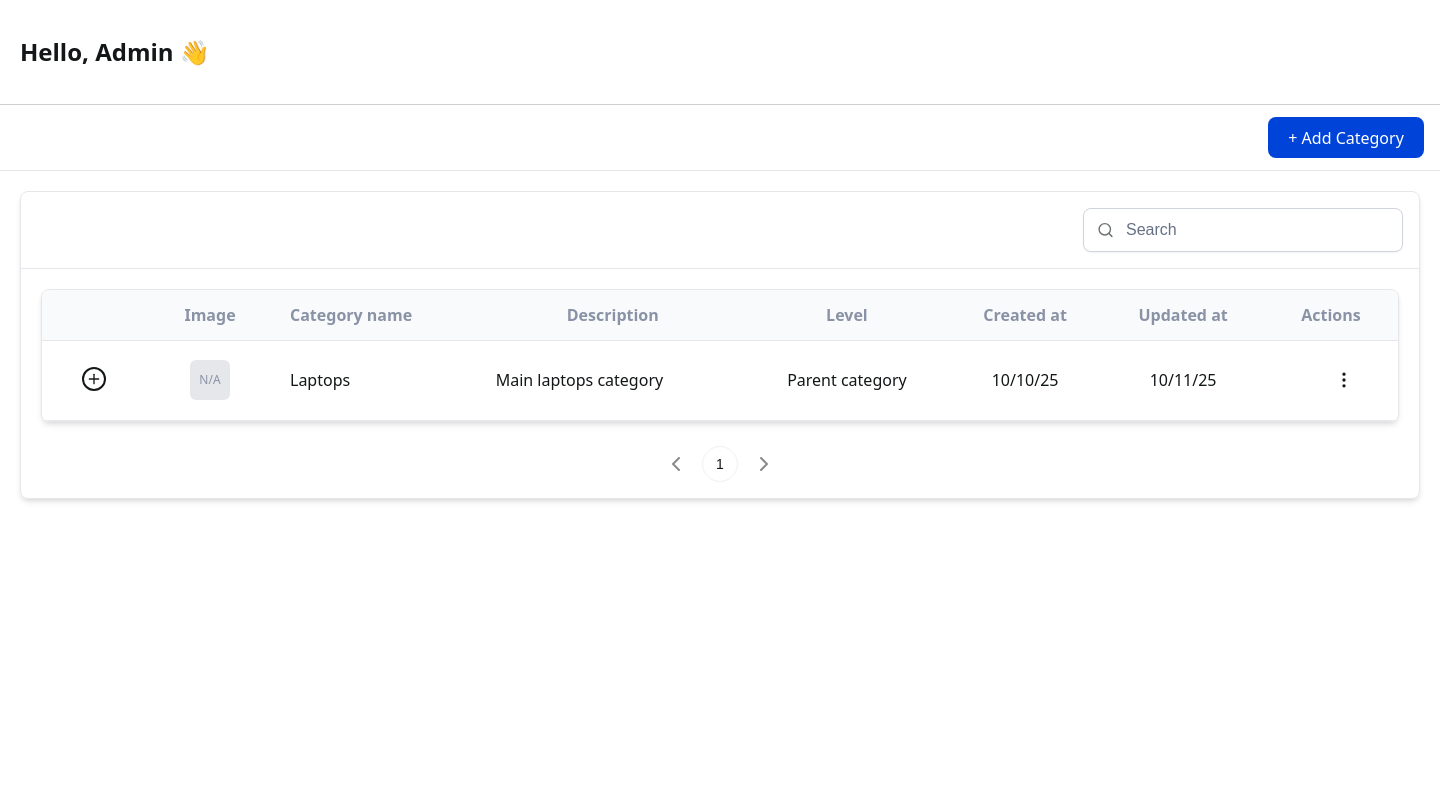
Test: Page: AdminCategories › should auto-expand parent row when backend returns a matching subcategory
Check: the text "Ultrabooks" is not shown
Step 1. Type "ultra" into the field → (1243, 230), box [1083, 208, 1403, 252]
Wait 500 ms
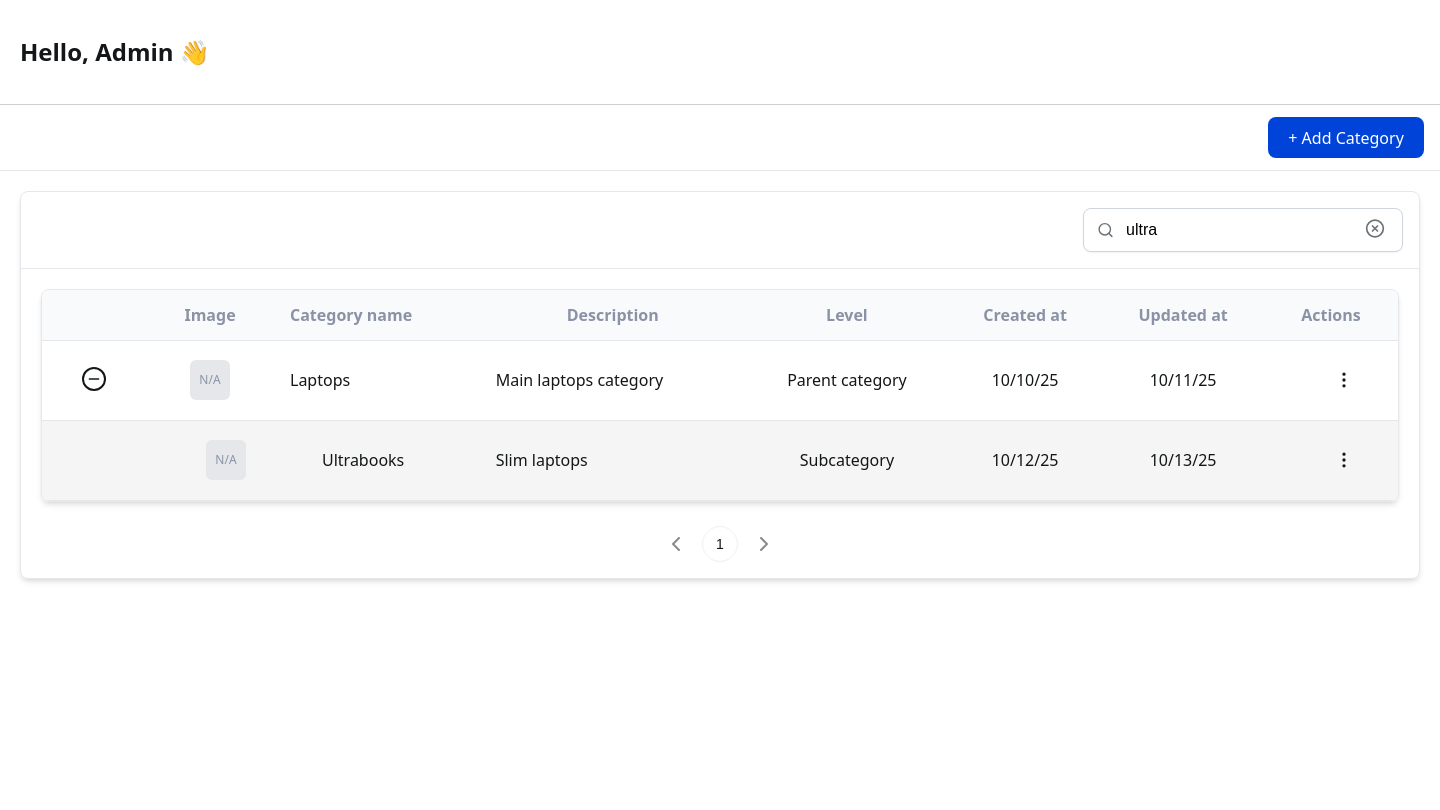
Check: the text "Ultrabooks" is shown, box [322, 449, 404, 471]
Check: the button named "Collapse Laptops" is shown, box [82, 367, 106, 391]
